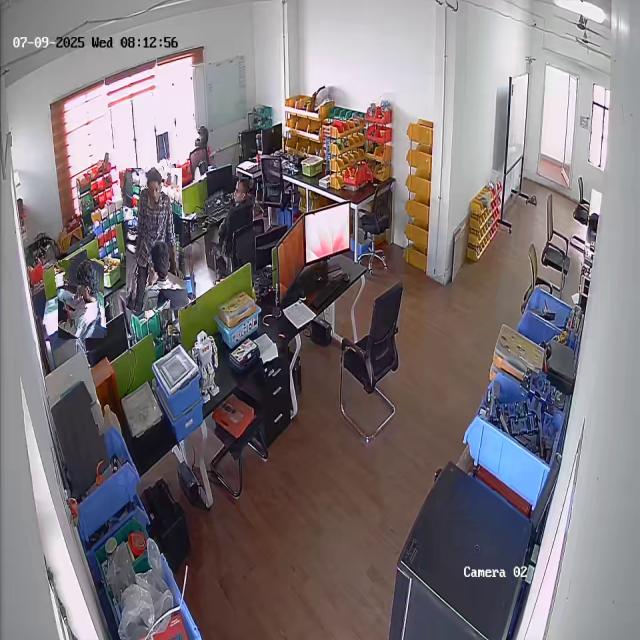person: (122, 167, 186, 311), (207, 175, 256, 259), (56, 259, 106, 339)
